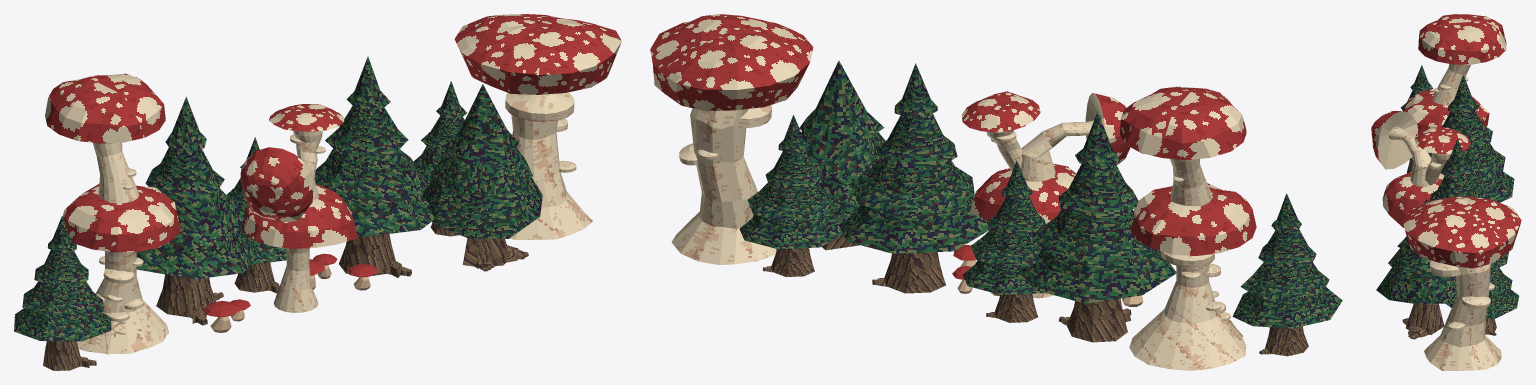
The model's file is mushroom_wall1.fbx.
3 renders of one model, left to right at view 1: azimuth 30°, elevation 25°; view 2: azimuth 150°, elevation 25°; view 3: azimuth 270°, elevation 25°, orthographic. The views are drawn at different scales.
Parts seen in each view (by area): view 1: Mushroom_Large.003, Mushroom_Mid.003, Large_Tree.001, Large_Tree.006, Small_Tree.004, Mushroom_Large _2.002, Large_Tree.008, Trunk.001, Large_Tree.003, Large_Tree.007, Mushroom_Small.007, Mushroom_Small.003; view 2: Mushroom_Large.003, Mushroom_Mid.003, Large_Tree.001, Large_Tree.006, Large_Tree.008, Large_Tree.003, Small_Tree.004, Large_Tree.007, Mushroom_Large _2.002, Trunk.001; view 3: Mushroom_Mid.003, Mushroom_Large.003, Mushroom_Large _2.002, Small_Tree.004, Large_Tree.006, Trunk.001, Large_Tree.001, Large_Tree.003, Large_Tree.008, Large_Tree.007.
Part boxes in pixels (x1,y1,x2,y2): Mushroom_Large.003: (45,73,180,354); Mushroom_Mid.003: (454,14,621,239); Large_Tree.001: (314,56,434,277); Large_Tree.006: (136,97,257,325); Small_Tree.004: (422,84,542,271); Mushroom_Large _2.002: (240,147,357,312); Large_Tree.008: (14,216,111,370); Trunk.001: (269,104,344,178); Large_Tree.003: (413,81,466,236); Large_Tree.007: (227,137,286,293); Mushroom_Small.007: (203,301,240,332); Mushroom_Small.003: (347,264,377,290); Mushroom_Large.003: (1119,86,1256,370); Mushroom_Mid.003: (650,14,813,264); Large_Tree.001: (839,63,991,293); Large_Tree.006: (1021,112,1176,342); Large_Tree.008: (1232,193,1342,356); Large_Tree.003: (739,114,844,276); Small_Tree.004: (799,60,885,250); Large_Tree.007: (963,160,1045,322); Mushroom_Large _2.002: (969,93,1130,298); Trunk.001: (961,91,1040,171); Mushroom_Mid.003: (1403,196,1521,370); Mushroom_Large.003: (1403,14,1506,153); Mushroom_Large _2.002: (1371,111,1444,227); Small_Tree.004: (1376,198,1457,339); Large_Tree.006: (1429,75,1514,202); Trunk.001: (1414,126,1470,185); Large_Tree.001: (1429,139,1508,266); Large_Tree.003: (1445,259,1519,335); Large_Tree.008: (1400,65,1432,173); Large_Tree.007: (1465,146,1490,199).
Bounding box in the file's own units: 2475 × 922 × 703.
